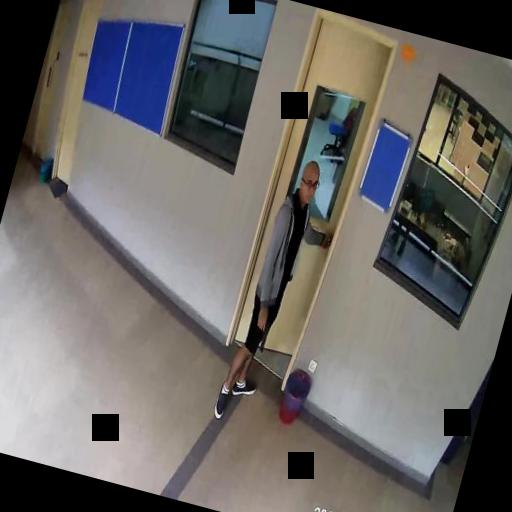Handgun: (248, 314, 271, 350)
